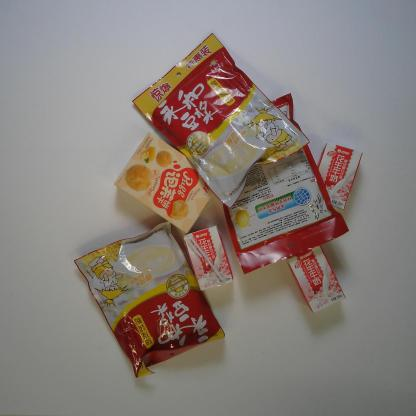Dessert: (113, 130, 216, 234)
Instant Drink: (131, 30, 313, 208), (218, 90, 352, 278), (73, 218, 227, 380)
Milk: (286, 244, 347, 314), (316, 138, 364, 214), (182, 224, 236, 290)
